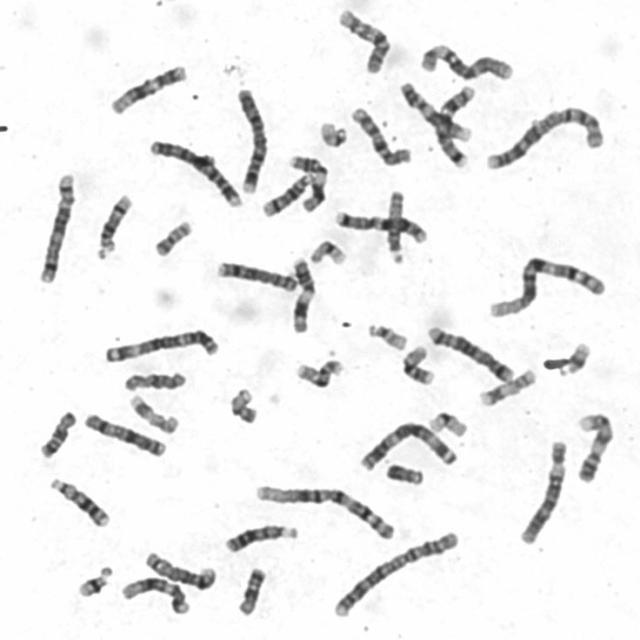A1: (486, 251, 604, 323), (254, 482, 396, 540)
A2: (333, 527, 461, 617), (484, 104, 612, 172)
A3: (357, 421, 460, 474), (104, 324, 221, 363)
B4: (148, 138, 245, 210), (235, 87, 271, 196)
B5: (424, 325, 516, 384), (37, 168, 78, 285)
C10: (349, 107, 414, 167), (337, 8, 393, 76)
C11: (288, 153, 329, 215), (289, 256, 318, 333)
C12: (110, 61, 188, 116), (119, 574, 192, 616)
C6: (516, 439, 567, 548), (421, 41, 514, 82)
C7: (434, 84, 476, 170), (334, 208, 428, 246)
C8: (142, 550, 218, 592), (216, 260, 298, 294)
C9: (397, 80, 473, 142), (574, 410, 615, 484)
D13: (49, 476, 114, 530), (222, 521, 302, 555)
D14: (94, 190, 137, 262), (259, 172, 317, 220)
D15: (385, 188, 407, 266), (124, 370, 190, 392)
E16: (399, 344, 438, 388), (295, 358, 346, 390)
E17: (478, 368, 538, 408), (128, 394, 180, 436)
E18: (38, 409, 78, 460), (235, 565, 268, 618)
F19: (307, 238, 349, 268), (429, 411, 467, 440)
F20: (153, 219, 193, 258), (227, 386, 261, 424)
G21: (556, 340, 593, 378), (76, 563, 114, 599)
G22: (368, 323, 409, 352), (318, 120, 349, 149)
X: (82, 412, 168, 460)
Y: (384, 461, 425, 487)
